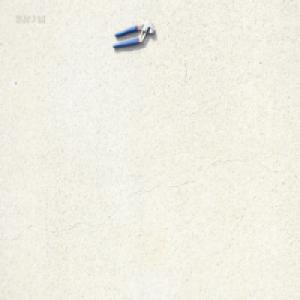Pliers: (112, 19, 156, 49)
